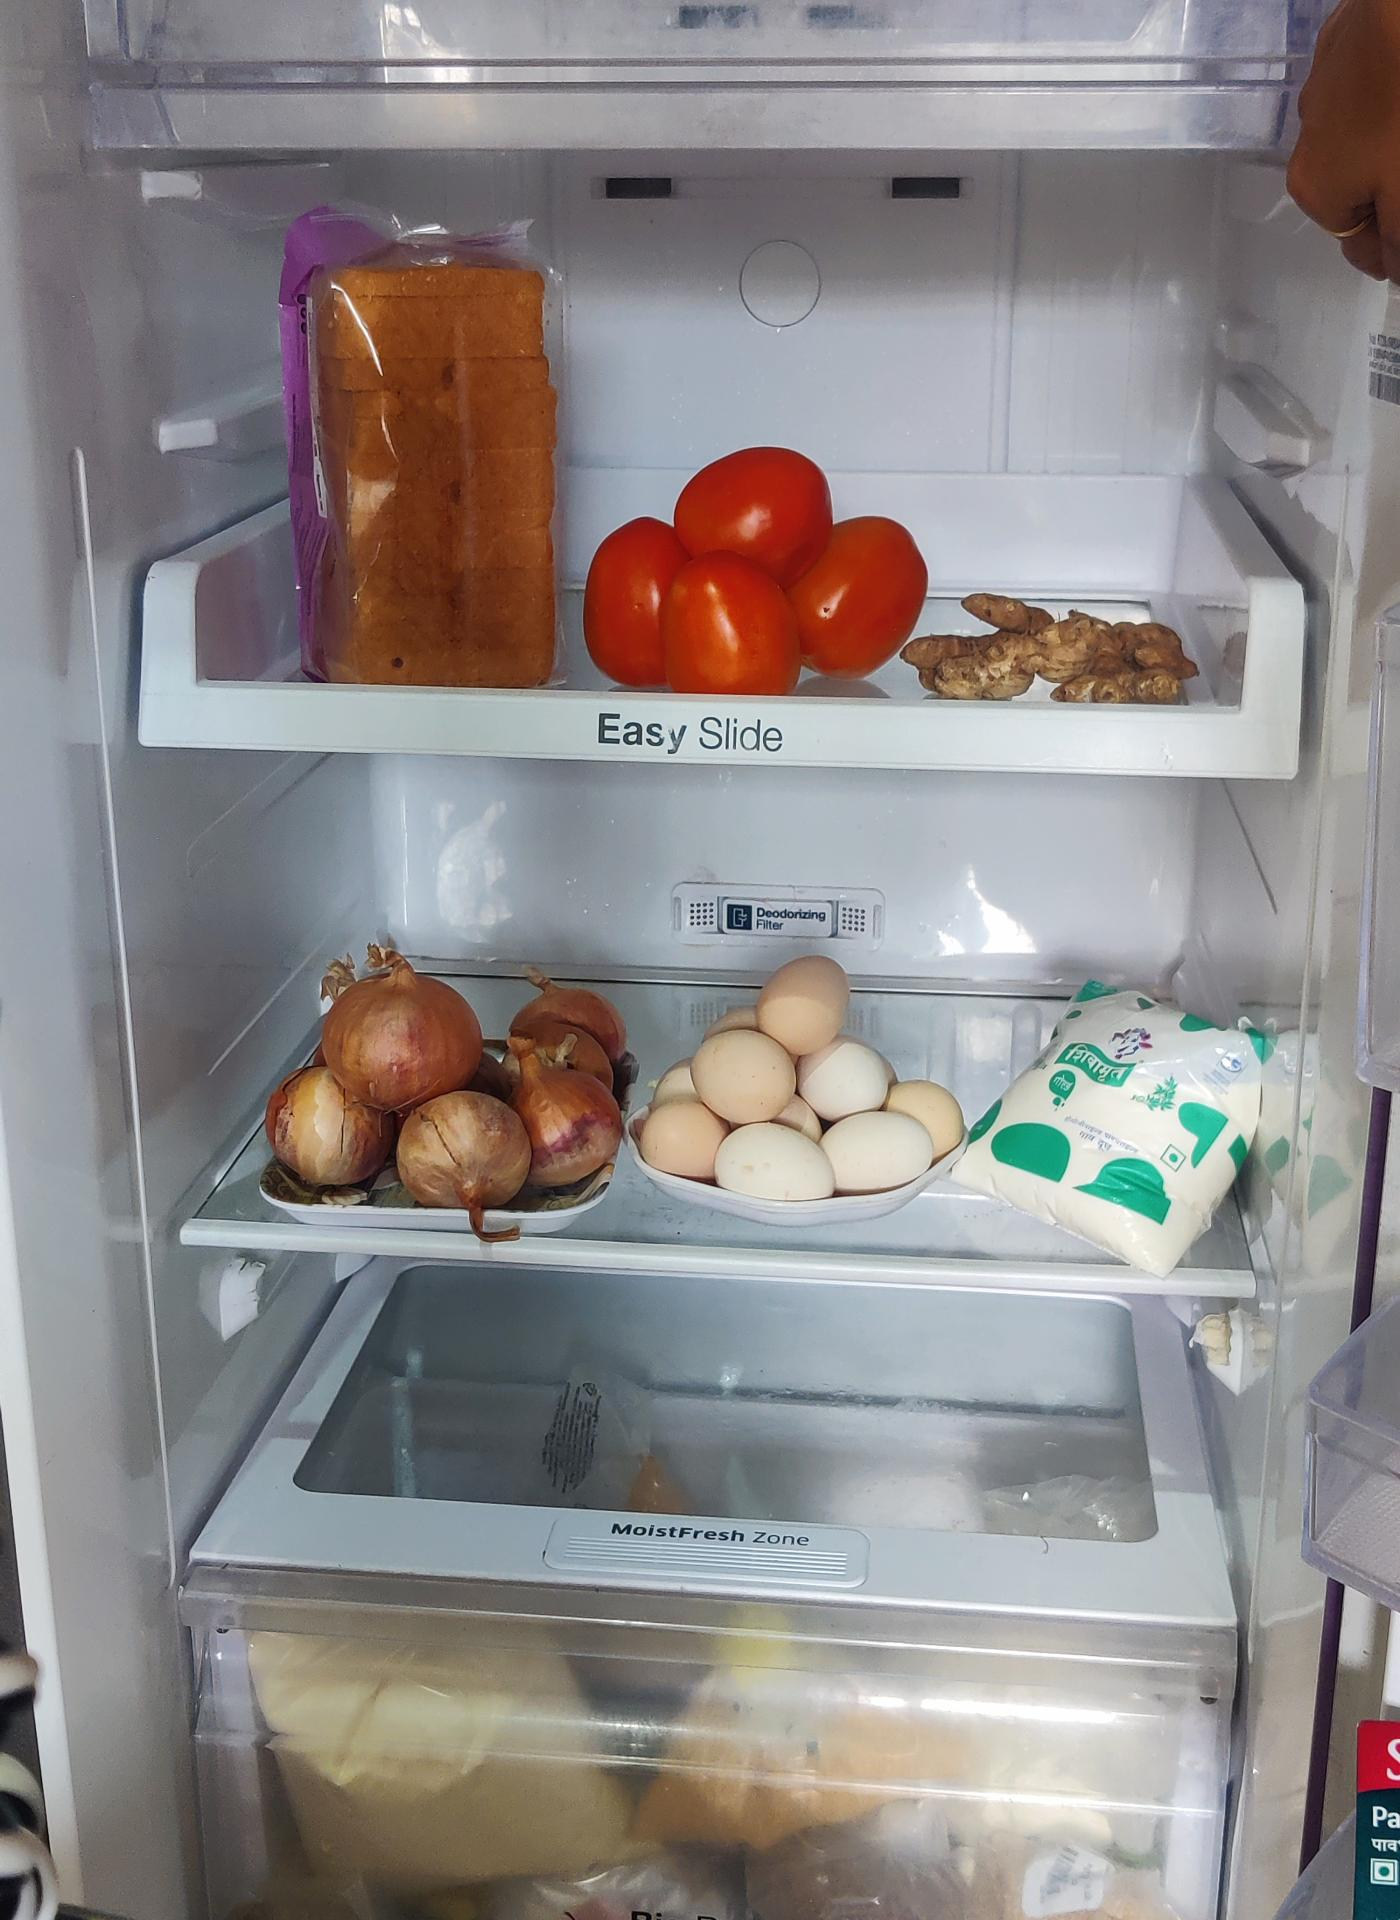bread: (282, 204, 574, 686)
egg: (637, 972, 957, 1221)
ginger: (920, 587, 1205, 707)
milk: (969, 984, 1272, 1266)
onion: (264, 944, 629, 1207)
tomato: (589, 449, 930, 702)
